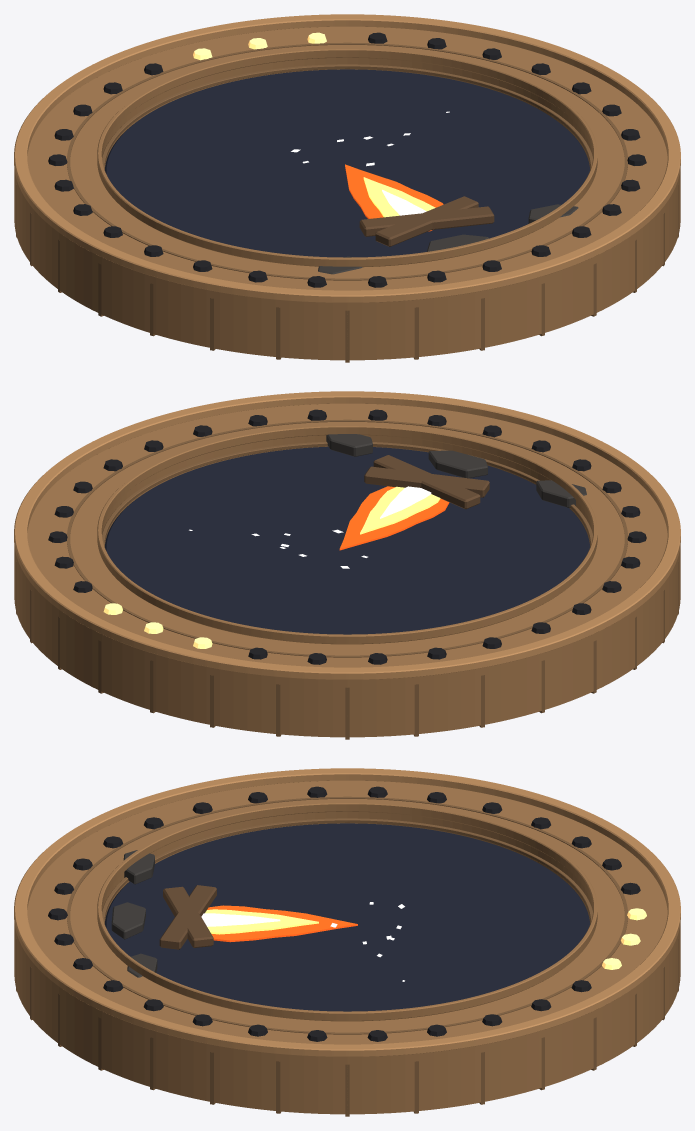
File: streak_3.glb
3 renders of one model, top to bottom at view 1: azimuth 30°, elevation 25°; view 2: azimuth 150°, elevation 25°; view 3: azimuth 270°, elevation 25°, orthographic.
Parts seen in each view (by area): view 1: SR_Ring, SR_Field, SR_OuterLip, SR_InnerLip, SR_PipsDark, SR_RingLine, SR_Logs, SR_FieldRim, SR_Ribs, SR_Flame0, SR_Flame1, SR_PipsLit (+1 smaller); view 2: SR_Ring, SR_Field, SR_OuterLip, SR_InnerLip, SR_PipsDark, SR_RingLine, SR_Logs, SR_Ribs, SR_FieldRim, SR_Flame0, SR_Flame1, SR_Stone1 (+4 smaller); view 3: SR_Ring, SR_Field, SR_OuterLip, SR_InnerLip, SR_PipsDark, SR_RingLine, SR_FieldRim, SR_Logs, SR_Ribs, SR_Flame0, SR_Flame1, SR_Stone1 (+3 smaller).
Part boxes in pixels (box(x1,y1,x2,y2)): SR_Ring: box(14, 26, 680, 360); SR_Field: box(104, 69, 590, 257); SR_OuterLip: box(14, 14, 680, 302); SR_InnerLip: box(97, 48, 597, 267); SR_PipsDark: box(48, 32, 646, 287); SR_RingLine: box(67, 42, 627, 280); SR_Logs: box(359, 196, 494, 246); SR_FieldRim: box(102, 64, 592, 169); SR_Ribs: box(16, 184, 678, 362); SR_Flame0: box(345, 164, 443, 231); SR_Flame1: box(363, 177, 435, 217); SR_PipsLit: box(193, 32, 326, 60); SR_Ring: box(14, 403, 680, 737); SR_Field: box(104, 446, 590, 634); SR_OuterLip: box(14, 391, 680, 679); SR_InnerLip: box(97, 425, 597, 644); SR_PipsDark: box(48, 409, 646, 664); SR_RingLine: box(67, 419, 627, 657); SR_Logs: box(364, 455, 489, 509); SR_Ribs: box(16, 561, 678, 739); SR_FieldRim: box(102, 441, 592, 546); SR_Flame0: box(339, 486, 449, 550); SR_Flame1: box(360, 486, 440, 534); SR_Stone1: box(428, 450, 487, 478); SR_Ring: box(14, 780, 680, 1114); SR_Field: box(104, 823, 590, 1011); SR_OuterLip: box(14, 768, 680, 1056); SR_InnerLip: box(97, 802, 597, 1021); SR_PipsDark: box(48, 786, 640, 1041); SR_RingLine: box(67, 796, 627, 1034); SR_FieldRim: box(102, 818, 592, 923); SR_Logs: box(159, 885, 216, 949); SR_Ribs: box(16, 938, 678, 1116); SR_Flame0: box(207, 905, 357, 942); SR_Flame1: box(205, 909, 318, 934); SR_Stone1: box(111, 902, 145, 939).
Size of the model in its own units: 0.0394 by 0.00447 by 0.0394.
